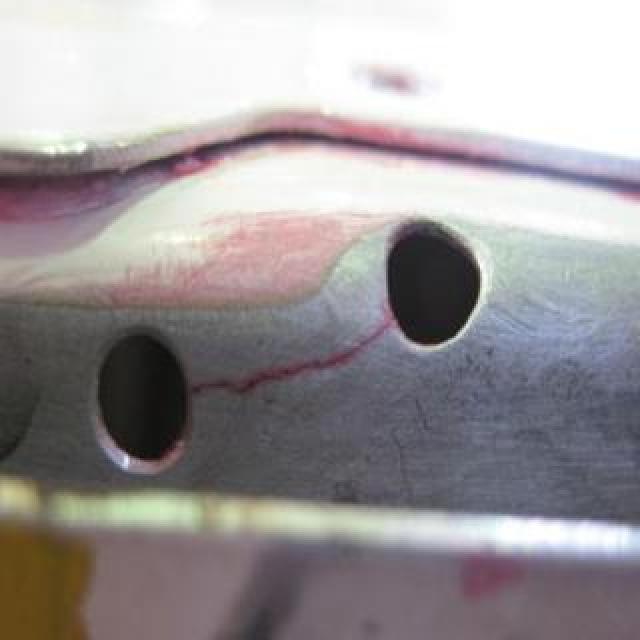crack: (186, 308, 400, 402)
